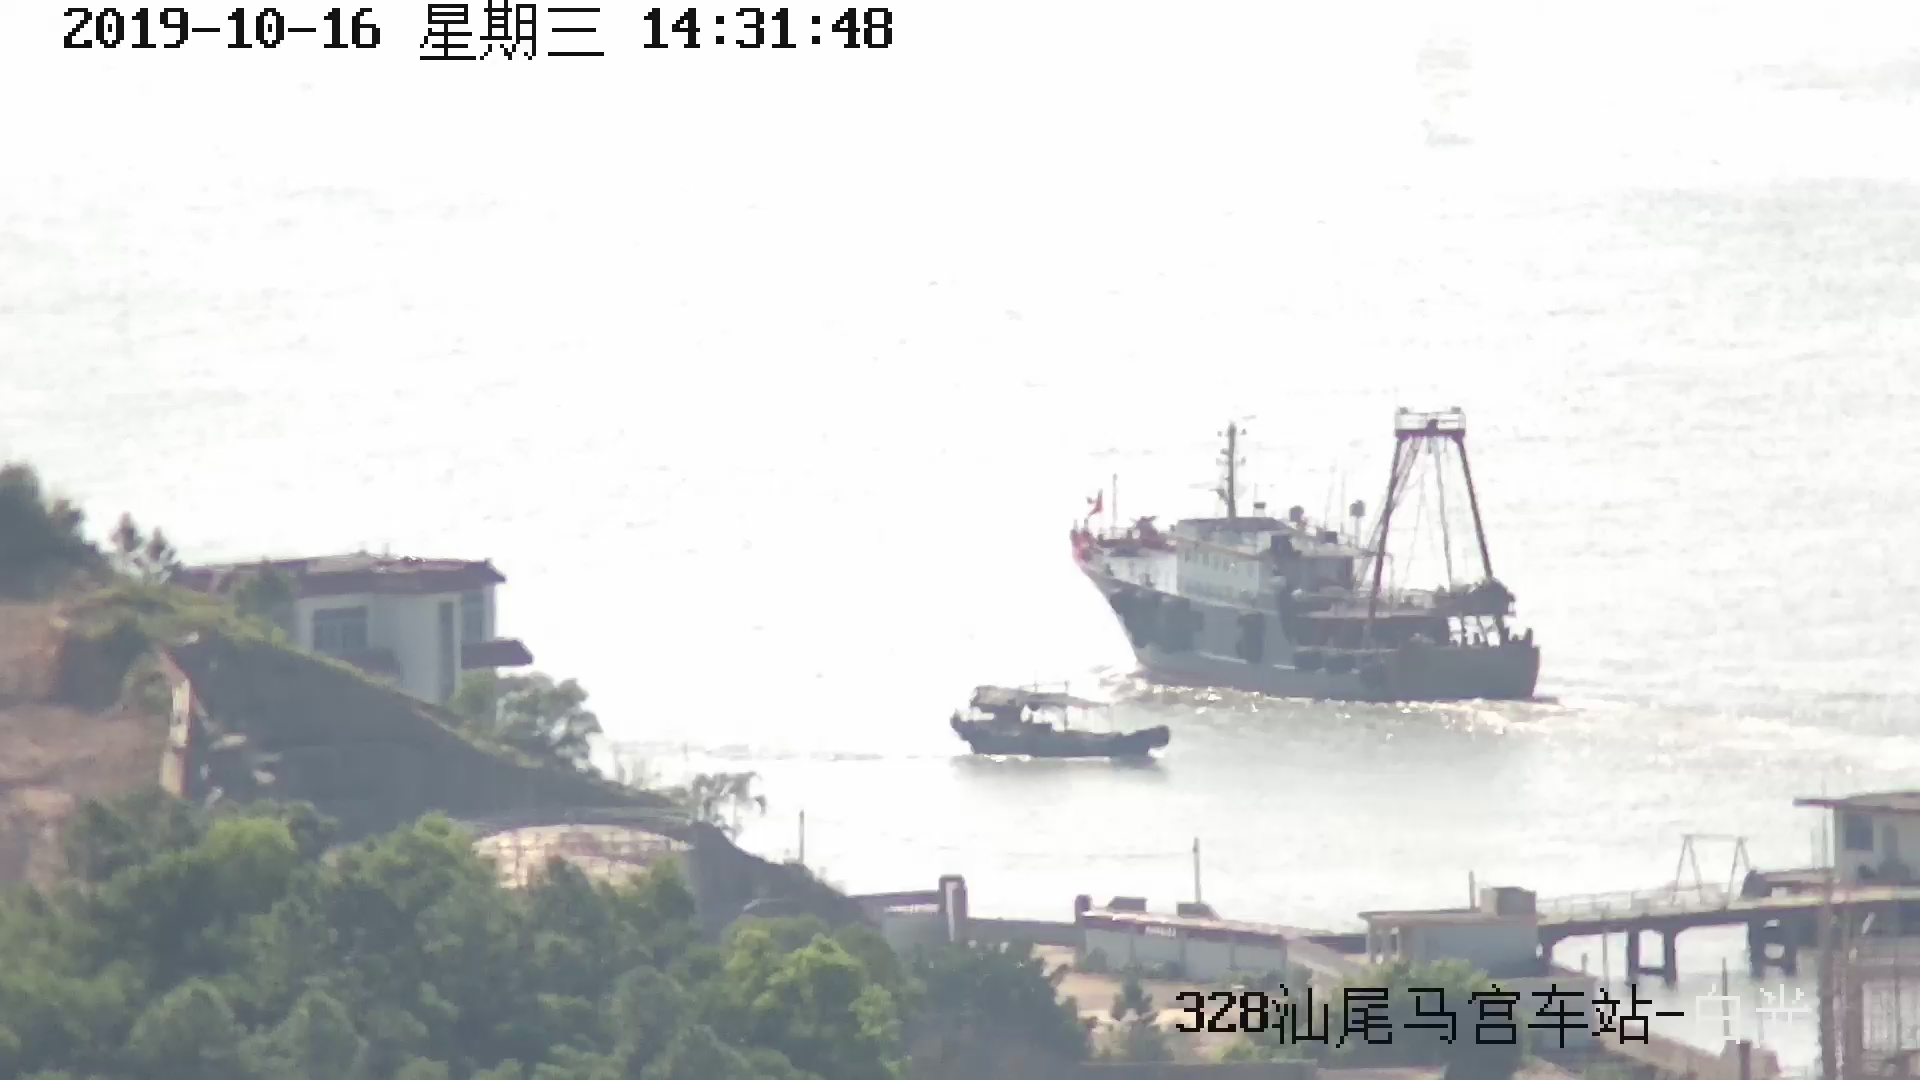ship: (1065, 415, 1542, 702), (951, 684, 1170, 766)
